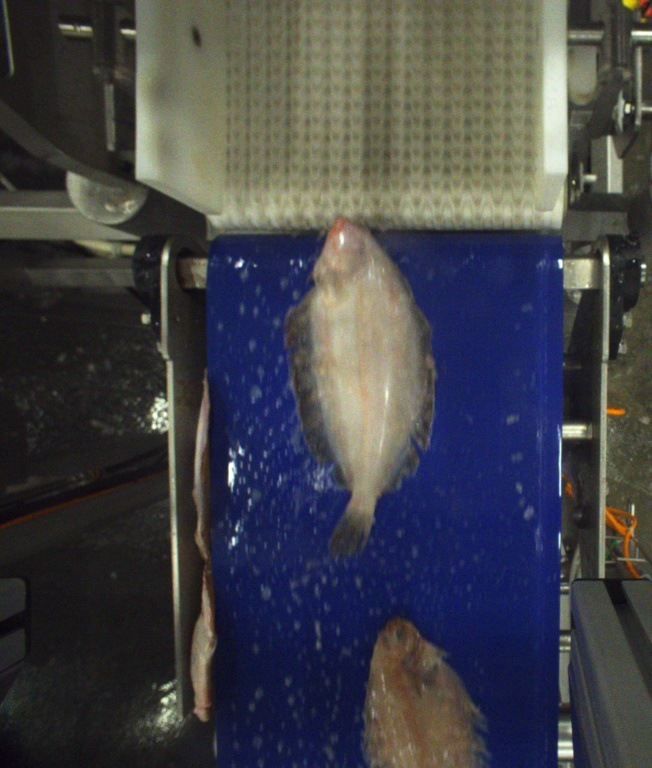WIT: (355, 614, 488, 768)
